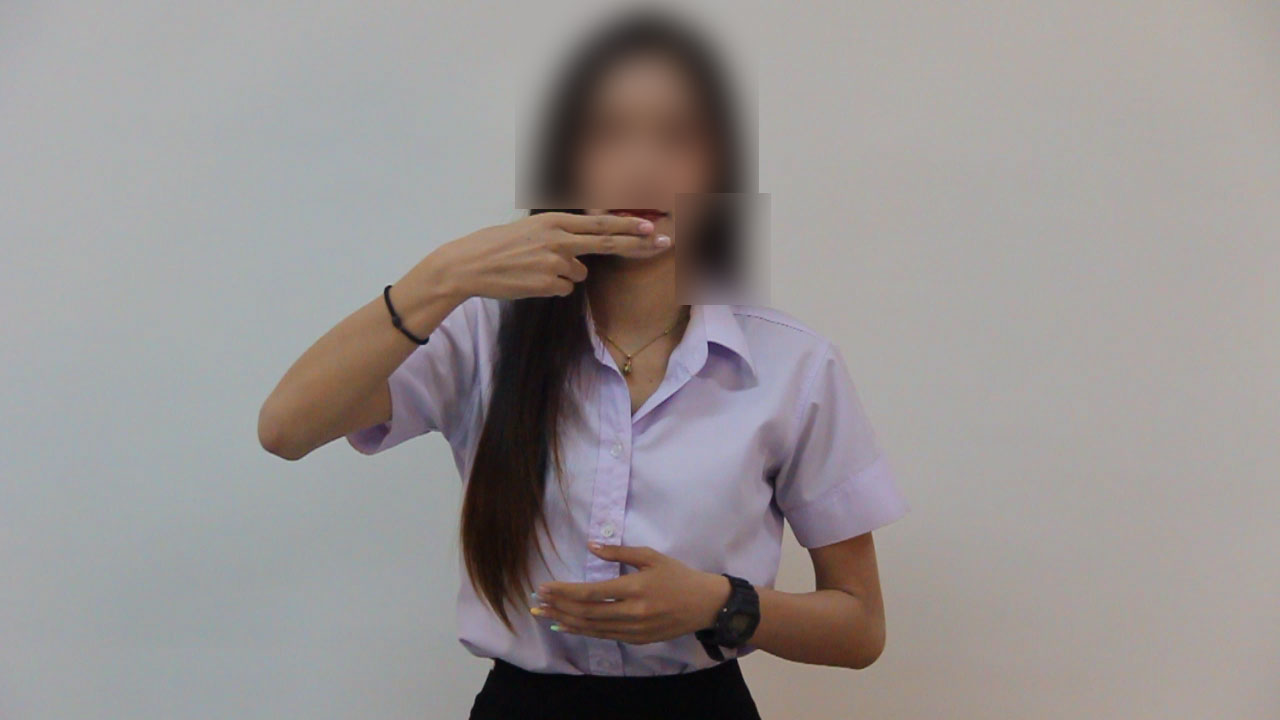hor: (426, 206, 681, 317)
